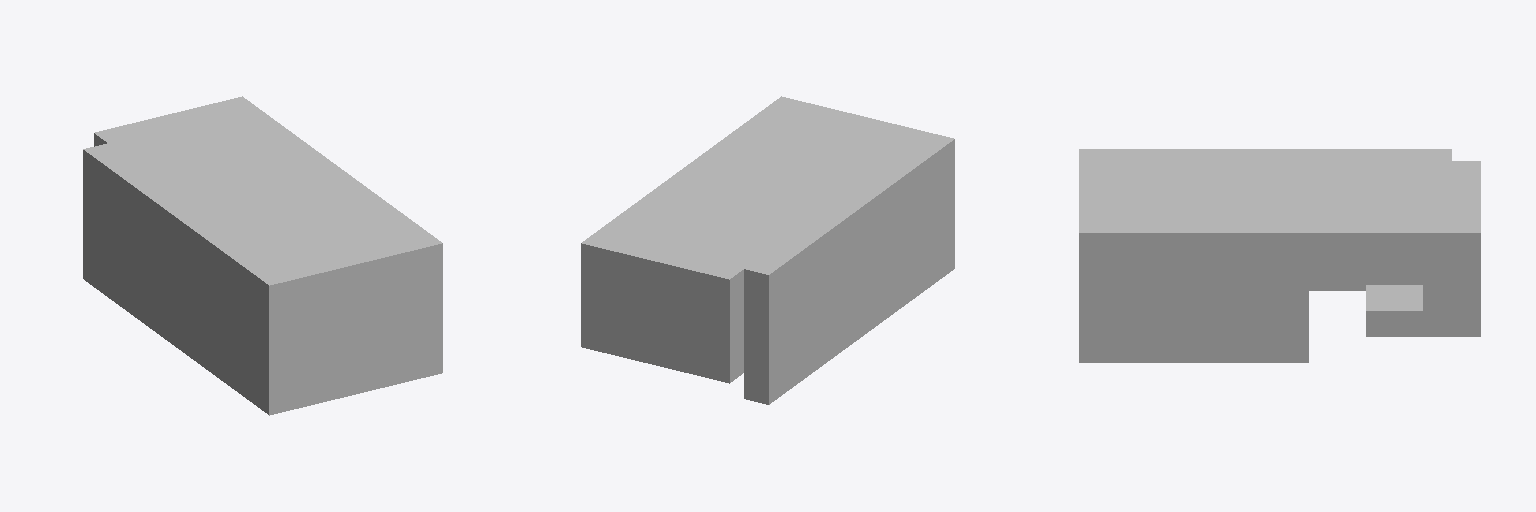
Rendered from gloveGDR.obj.
The picture shows the model from 3 angles: view 1: azimuth 30°, elevation 25°; view 2: azimuth 150°, elevation 25°; view 3: azimuth 270°, elevation 25°; orthographic projection.
Parts seen in each view (by area): view 1: grobeGD; view 2: grobeGD; view 3: grobeGD.
Part boxes in pixels (x1,y1,x2,y2): grobeGD: (83, 96, 442, 415); grobeGD: (581, 96, 954, 404); grobeGD: (1079, 149, 1480, 362).
Bounding box in the file's own units: 0.7 × 0.5 × 1.4.